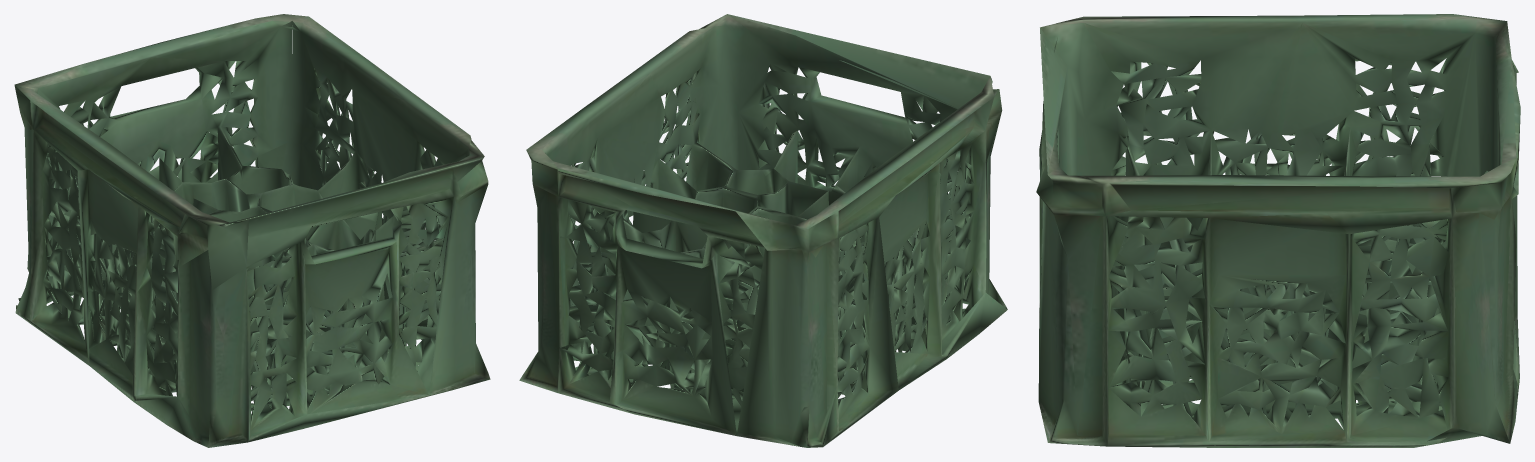
Rendered from cajon.glb.
The picture shows the model from 3 angles, left to right: view 1: azimuth 30°, elevation 25°; view 2: azimuth 150°, elevation 25°; view 3: azimuth 270°, elevation 25°; orthographic projection. The views are drawn at different scales.
Visible parts, largest first — view 1: tripo_node_fbefe3c5-4cfd-41cb-a57a-9e1eba0ad029; view 2: tripo_node_fbefe3c5-4cfd-41cb-a57a-9e1eba0ad029; view 3: tripo_node_fbefe3c5-4cfd-41cb-a57a-9e1eba0ad029.
Part boxes in pixels (<box>): tripo_node_fbefe3c5-4cfd-41cb-a57a-9e1eba0ad029: <box>14,14,490,447</box>; tripo_node_fbefe3c5-4cfd-41cb-a57a-9e1eba0ad029: <box>519,14,1007,447</box>; tripo_node_fbefe3c5-4cfd-41cb-a57a-9e1eba0ad029: <box>1036,14,1520,447</box>.
Bounding box in the file's own units: 0.417 × 0.3 × 0.4946.
Materials: 1 (1 with a texture image).
